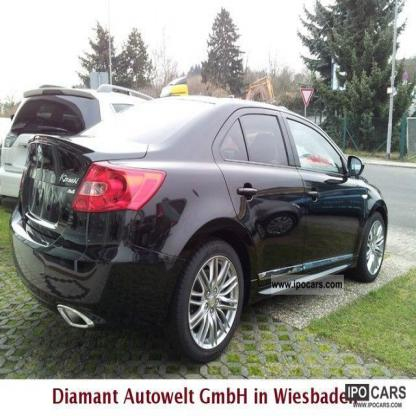Vehicle: (9, 98, 389, 361)
